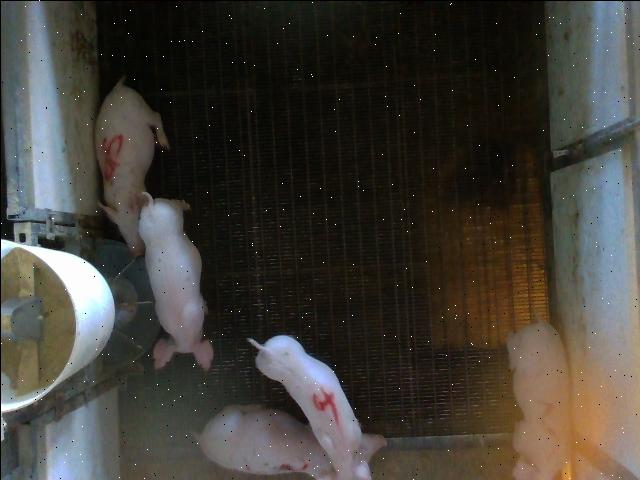pig-2: (506, 320, 569, 479)
pig-3: (194, 404, 334, 479)
pig-4: (248, 335, 385, 478)
pig-5: (94, 75, 169, 254)
